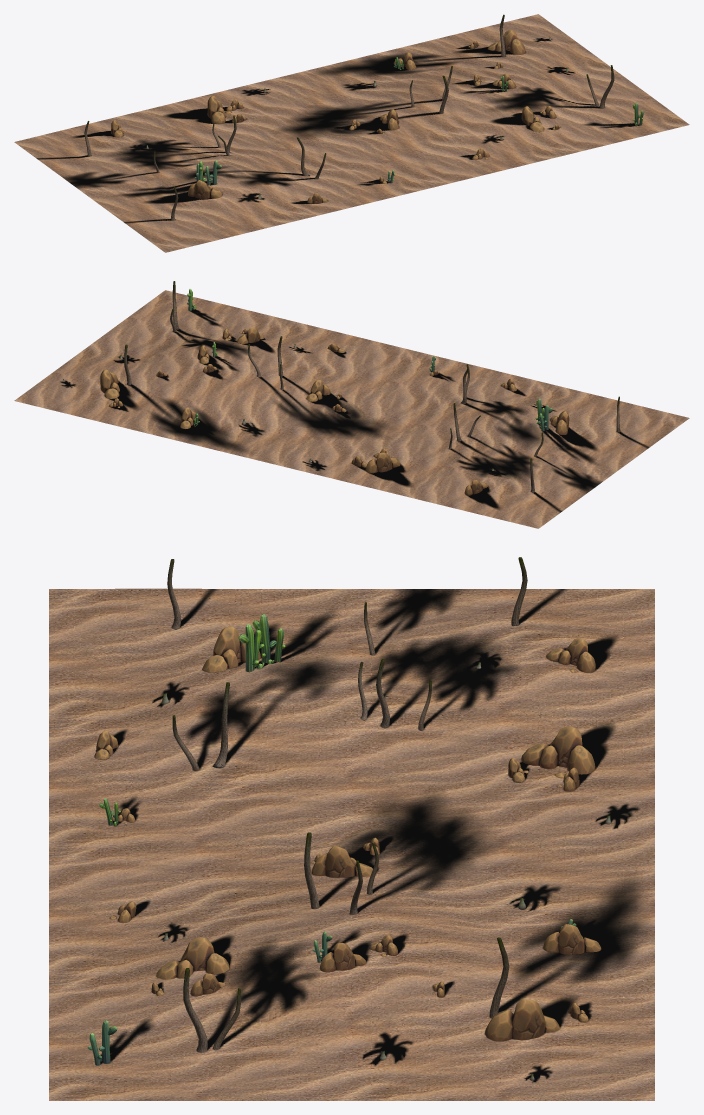
Rendered from world_2.glb.
3 views of the same model, one above another, from view 1: azimuth 30°, elevation 25°; view 2: azimuth 150°, elevation 25°; view 3: azimuth 270°, elevation 25° (orthographic). The views are drawn at different scales.
Parts seen in each view (by area): view 1: Ground, Rock12, Rock1, Rock3; view 2: Ground, Rock3, Rock12; view 3: Ground, Rock3, Rock12, Rock8, Rock1, Rock6, Rock13, Rock16, Rock19.
Boxes of the visible parts, x1=… form: Ground: x1=14, y1=14, x2=689, y2=252; Rock12: x1=487, y1=30, x2=525, y2=54; Rock1: x1=188, y1=180, x2=222, y2=198; Rock3: x1=207, y1=95, x2=230, y2=123; Ground: x1=14, y1=290, x2=689, y2=528; Rock3: x1=365, y1=452, x2=400, y2=473; Rock12: x1=100, y1=369, x2=124, y2=398; Ground: x1=49, y1=588, x2=654, y2=1100; Rock3: x1=521, y1=726, x2=595, y2=777; Rock12: x1=485, y1=999, x2=559, y2=1041; Rock8: x1=156, y1=937, x2=229, y2=979; Rock1: x1=202, y1=626, x2=260, y2=672; Rock6: x1=311, y1=846, x2=372, y2=877; Rock13: x1=543, y1=924, x2=601, y2=954; Rock16: x1=546, y1=638, x2=595, y2=672; Rock19: x1=319, y1=943, x2=366, y2=972.
Size of what is drawn, in the model's own units: 100 by 8.97 by 50.
Materials: 5 (5 with a texture image).
